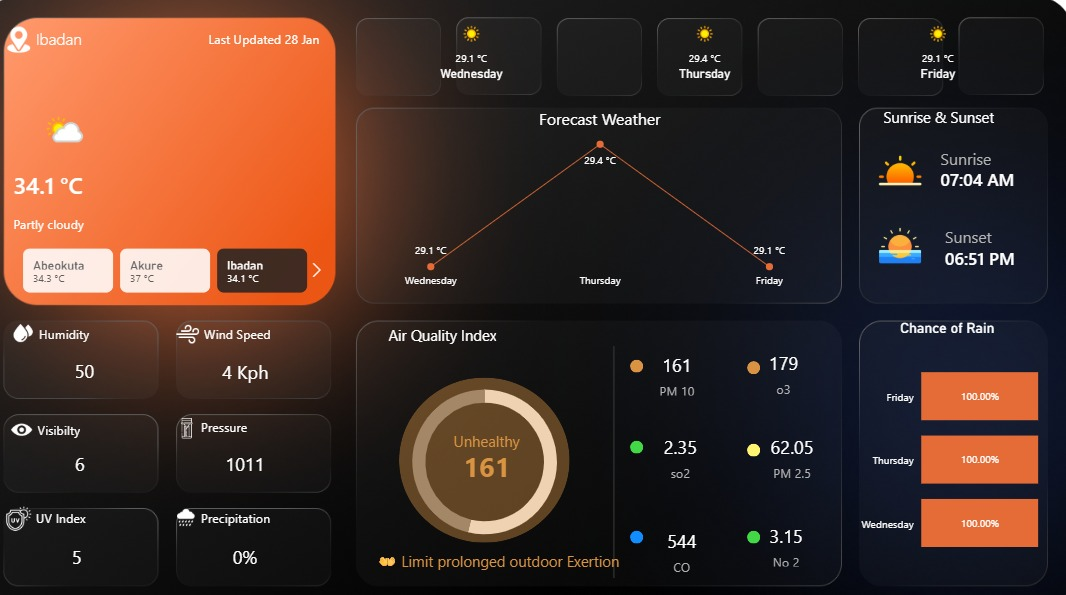

Layout of this report page (visuals, bound fields, positions):
{"tool":"powerbi","page":{"name":"Page 1","canvas":[1280,780],"ordinal":0},"visuals":[{"type":"donutChart","fields":{"Y":["Sum(Current data.current.air_quality.pm10)","measure table.left value pM 10"]},"box":[462,462,256.9,222.4],"z":0},{"type":"shape","box":[490.2,474.6,200.5,194.2],"z":1000},{"type":"advancedSlicerVisual","fields":{"Values":["Locations.location.name"]},"box":[23.5,318,385.3,62.7],"z":2000},{"type":"shape","box":[37.6,209.9,106.5,75.2],"z":3000},{"type":"shape","box":[37.6,267.8,155.1,50.1],"z":4000},{"type":"shape","box":[64.2,51.7,155.1,50.1],"z":5000},{"type":"shape","box":[253.7,47,155.1,58],"z":6000},{"type":"image","box":[15.7,56.4,54.8,40.7],"z":7000},{"type":"cardVisual","fields":{"Data":["Min(Current data.current.condition.icon)"]},"box":[0,117.5,141,136.3],"z":8000},{"type":"image","box":[23.5,518.4,47,34.5],"z":9000},{"type":"shape","box":[67.3,402.5,155.1,40.7],"z":10000},{"type":"shape","box":[260,402.5,155.1,40.7],"z":11000},{"type":"shape","box":[256.9,510.6,155.1,40.7],"z":12000},{"type":"shape","box":[256.9,618.7,155.1,40.7],"z":13000},{"type":"shape","box":[65.8,515.3,155.1,40.7],"z":14000},{"type":"shape","box":[64.2,618.7,155.1,40.7],"z":15000},{"type":"image","box":[213,516.9,54.8,34.5],"z":16000},{"type":"image","box":[7.8,405.7,83,32.9],"z":17000},{"type":"image","box":[15.7,620.2,54.8,39.2],"z":18000},{"type":"image","box":[224,615.5,31.3,47],"z":19000},{"type":"image","box":[222.4,402.5,39.2,42.3],"z":20000},{"type":"card","fields":{"Values":["Sum(Current data.current.humidity)"]},"box":[54.6,443.8,130.8,48],"z":21000},{"type":"card","fields":{"Values":["measure table.Wind_Kph"]},"box":[242.8,443.3,131.6,48.6],"z":22000},{"type":"card","fields":{"Values":["Sum(Current data.current.pressure_mb)"]},"box":[243.4,553.1,130.8,48],"z":23000},{"type":"card","fields":{"Values":["Sum(Current data.current.vis_miles)"]},"box":[49.7,553.1,130.8,48],"z":24000},{"type":"card","fields":{"Values":["Sum(Current data.current.uv)"]},"box":[46.4,662.4,130.8,48],"z":25000},{"type":"card","fields":{"Values":["Sum(Current data.current.precip_mm)"]},"box":[243.4,662.4,130.8,48],"z":26000},{"type":"advancedSlicerVisual","fields":{"Values":["Forecast_day.Day_name"]},"box":[437,47,827,95.5],"z":27000},{"type":"lineChart","title":"Forecast Weather","fields":{"Y":["Sum(Forecast_day.forecast.forecastday.day.avgtemp_c)"],"Category":["Forecast_day.Day_name"]},"box":[441.7,156.6,567,220.8],"z":28000},{"type":"shape","box":[1058.8,147.2,155.1,40.7],"z":29000},{"type":"shape","box":[1126.1,216.1,114.3,48.6],"z":30000},{"type":"shape","box":[1130.8,308.6,114.3,51.7],"z":31000},{"type":"shape","box":[1126.1,202,114.3,28.2],"z":32000},{"type":"shape","box":[1130.8,294.5,114.3,28.2],"z":33000},{"type":"image","box":[1044.7,200.5,67.3,59.5],"z":34000},{"type":"image","box":[1043.1,289.8,70.5,59.5],"z":35000},{"type":"hundredPercentStackedBarChart","title":"Chance of Rain","fields":{"Category":["forcast_hour.Hr_day_name"],"Y":["Sum(forcast_hour.forecast.forecastday.hour.chance_of_rain)","measure table.left rain"]},"box":[1021.2,405.7,224,305.4],"z":36000},{"type":"shape","box":[463.6,404.1,155.1,40.7],"z":37000},{"type":"card","fields":{"Values":["Sum(Current data.current.air_quality.o3)"]},"box":[888.1,438.6,106.5,59.5],"z":38000},{"type":"card","fields":{"Values":["Sum(Current data.current.air_quality.pm2_5)"]},"box":[906.9,537.2,87.7,59.5],"z":39000},{"type":"card","fields":{"Values":["Sum(Current data.current.air_quality.no2)"]},"box":[886.5,640.6,115.9,59.5],"z":40000},{"type":"card","fields":{"Values":["Sum(Current data.current.air_quality.co)"]},"box":[778.4,645.3,86.1,65.8],"z":41000},{"type":"card","fields":{"Values":["Sum(Current data.current.air_quality.so2)"]},"box":[776.9,537.2,86.1,59.5],"z":42000},{"type":"card","fields":{"Values":["Sum(Current data.current.air_quality.pm10)"]},"box":[769,440.1,95.5,59.5],"z":43000},{"type":"shape","box":[761.2,452.7,15.7,15.7],"z":44000},{"type":"shape","box":[761.2,548.2,15.7,15.7],"z":45000},{"type":"shape","box":[761.2,653.1,15.7,15.7],"z":46000},{"type":"shape","box":[899,454.2,15.7,15.7],"z":47000},{"type":"shape","box":[899,551.3,15.7,15.7],"z":48000},{"type":"shape","box":[899,653.1,15.7,15.7],"z":49000},{"type":"shape","box":[723.6,437,36,272.5],"z":50000},{"type":"card","fields":{"Values":["Sum(Current data.current.air_quality.pm10)"]},"box":[529.4,537.2,128.4,59.5],"z":51000},{"type":"card","fields":{"Values":["measure table.Punitive measures"]},"box":[451.1,662.5,310.1,58],"z":52000}]}

Visuals, with their boxes on the page's 1280x780 design canvas (x1, y1, x2, y2). These are canvas units, not pixel positions in the 1066x595 screenshot, which may show the page scaled, cropped or inside an application window:
donutChart - Sum(Current data.current.air_quality.pm10) x measure table.left value pM 10: region(462, 462, 719, 684)
shape: region(490, 475, 691, 669)
advancedSlicerVisual - Locations.location.name: region(24, 318, 409, 381)
shape: region(38, 210, 144, 285)
shape: region(38, 268, 193, 318)
shape: region(64, 52, 219, 102)
shape: region(254, 47, 409, 105)
image: region(16, 56, 70, 97)
cardVisual - Min(Current data.current.condition.icon): region(0, 118, 141, 254)
image: region(24, 518, 70, 553)
shape: region(67, 402, 222, 443)
shape: region(260, 402, 415, 443)
shape: region(257, 511, 412, 551)
shape: region(257, 619, 412, 659)
shape: region(66, 515, 221, 556)
shape: region(64, 619, 219, 659)
image: region(213, 517, 268, 551)
image: region(8, 406, 91, 439)
image: region(16, 620, 70, 659)
image: region(224, 616, 255, 662)
image: region(222, 402, 262, 445)
card - Sum(Current data.current.humidity): region(55, 444, 185, 492)
card - measure table.Wind_Kph: region(243, 443, 374, 492)
card - Sum(Current data.current.pressure_mb): region(243, 553, 374, 601)
card - Sum(Current data.current.vis_miles): region(50, 553, 180, 601)
card - Sum(Current data.current.uv): region(46, 662, 177, 710)
card - Sum(Current data.current.precip_mm): region(243, 662, 374, 710)
advancedSlicerVisual - Forecast_day.Day_name: region(437, 47, 1264, 142)
"Forecast Weather" lineChart: region(442, 157, 1009, 377)
shape: region(1059, 147, 1214, 188)
shape: region(1126, 216, 1240, 265)
shape: region(1131, 309, 1245, 360)
shape: region(1126, 202, 1240, 230)
shape: region(1131, 294, 1245, 323)
image: region(1045, 200, 1112, 260)
image: region(1043, 290, 1114, 349)
"Chance of Rain" hundredPercentStackedBarChart: region(1021, 406, 1245, 711)
shape: region(464, 404, 619, 445)
card - Sum(Current data.current.air_quality.o3): region(888, 439, 995, 498)
card - Sum(Current data.current.air_quality.pm2_5): region(907, 537, 995, 597)
card - Sum(Current data.current.air_quality.no2): region(886, 641, 1002, 700)
card - Sum(Current data.current.air_quality.co): region(778, 645, 864, 711)
card - Sum(Current data.current.air_quality.so2): region(777, 537, 863, 597)
card - Sum(Current data.current.air_quality.pm10): region(769, 440, 864, 500)
shape: region(761, 453, 777, 468)
shape: region(761, 548, 777, 564)
shape: region(761, 653, 777, 669)
shape: region(899, 454, 915, 470)
shape: region(899, 551, 915, 567)
shape: region(899, 653, 915, 669)
shape: region(724, 437, 760, 710)
card - Sum(Current data.current.air_quality.pm10): region(529, 537, 658, 597)
card - measure table.Punitive measures: region(451, 662, 761, 720)
